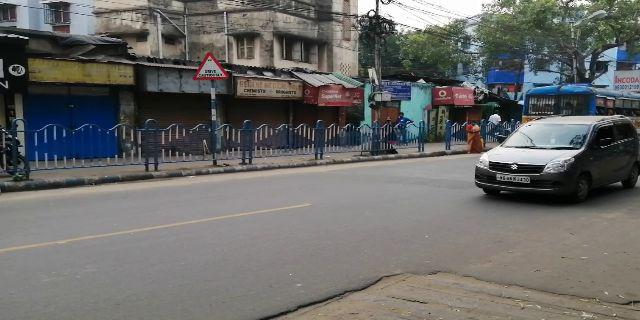Bus: (514, 84, 640, 144)
Car: (475, 115, 637, 191)
